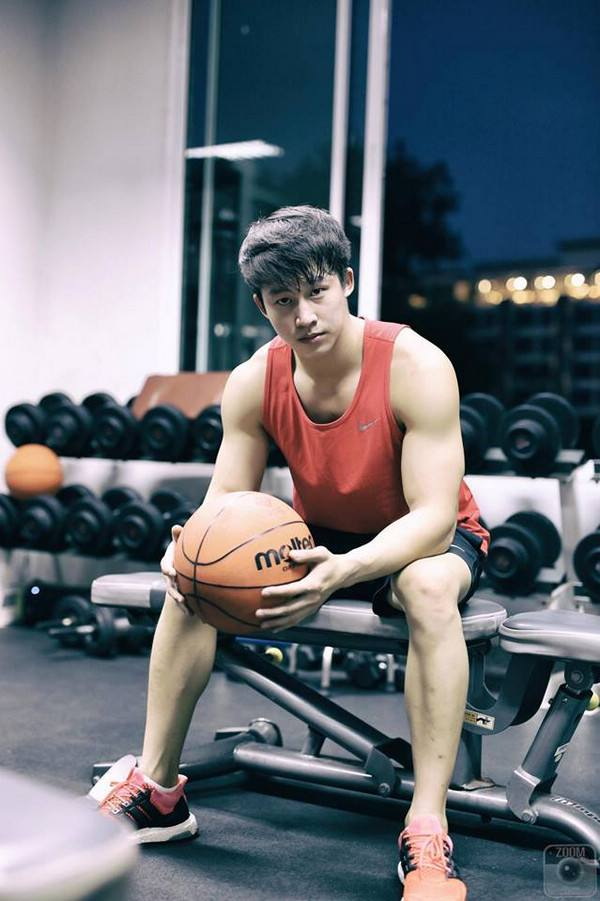person: (138, 180, 507, 852)
